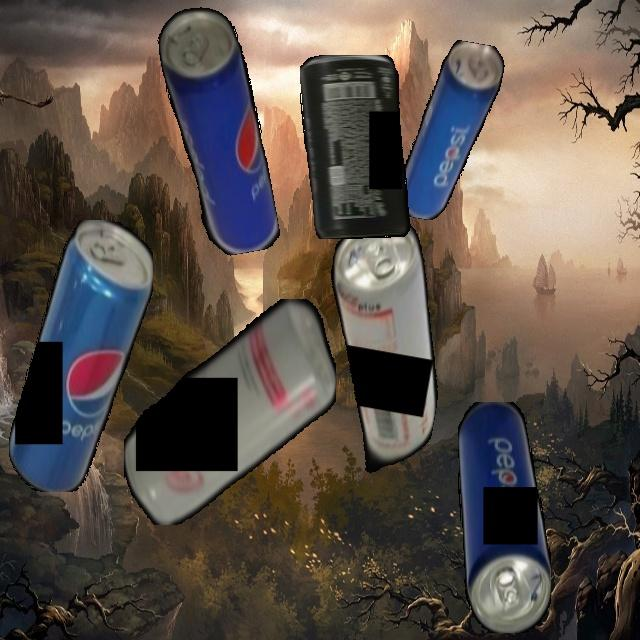debris: (123, 298, 336, 525), (298, 209, 467, 482), (8, 219, 153, 492), (153, 0, 282, 261), (457, 401, 551, 633), (395, 35, 507, 228), (300, 54, 411, 239)
